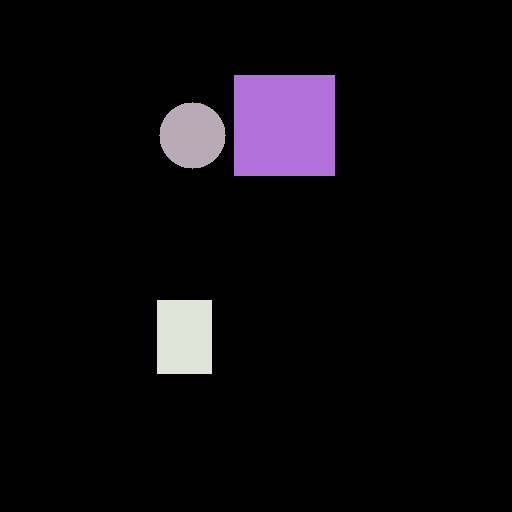circle: (159, 102, 225, 168)
rectangle: (157, 300, 211, 373)
square: (234, 75, 334, 175)
